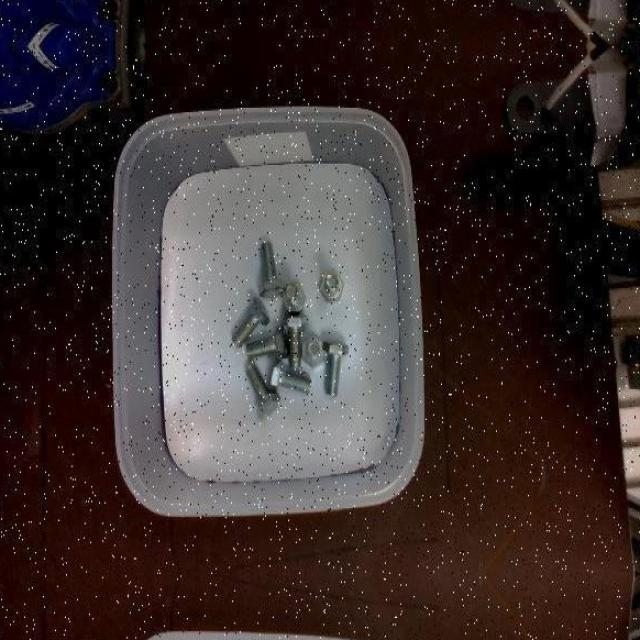screw: (231, 295, 269, 346), (246, 363, 280, 418), (322, 340, 350, 395), (283, 312, 309, 367), (246, 326, 287, 359), (270, 360, 312, 392), (258, 242, 282, 296), (319, 270, 344, 302), (302, 332, 324, 367), (282, 280, 306, 310)
